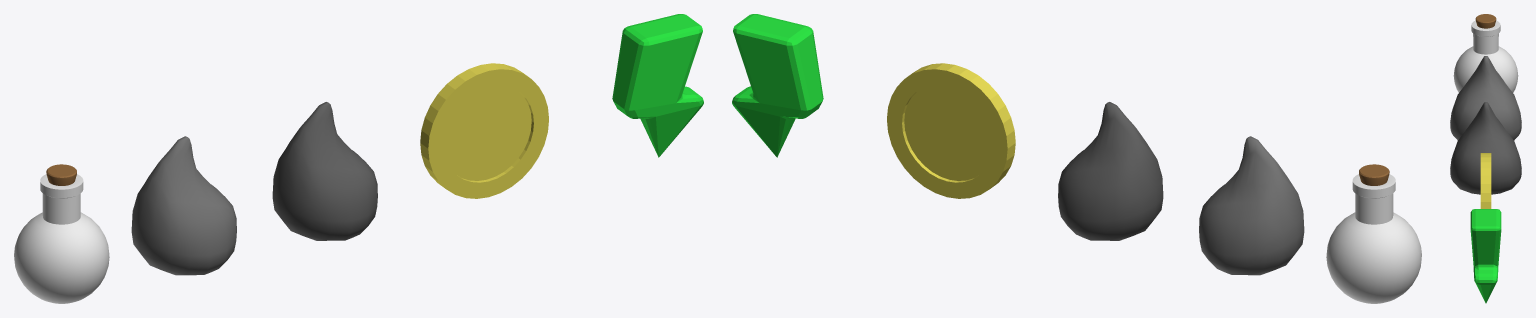
The model's file is Item.fbx.
The picture shows the model from 3 angles, left to right: view 1: azimuth 30°, elevation 25°; view 2: azimuth 150°, elevation 25°; view 3: azimuth 270°, elevation 25°; orthographic projection. The views are drawn at different scales.
Visible parts, largest first — view 1: Coin, Heart, Dis_Heart, Stamina, bottle, lid; view 2: Coin, Heart, Dis_Heart, Stamina, bottle, lid; view 3: Dis_Heart, Heart, Stamina, bottle, Coin, lid.
Boxes of the visible parts, x1,y1,x2,y2 form: Coin: (420, 63, 548, 198); Heart: (131, 136, 236, 275); Dis_Heart: (272, 102, 377, 240); Stamina: (612, 14, 703, 157); bottle: (14, 174, 109, 303); lid: (46, 164, 76, 185); Coin: (887, 63, 1015, 198); Heart: (1199, 136, 1304, 275); Dis_Heart: (1058, 102, 1163, 240); Stamina: (732, 14, 823, 157); bottle: (1326, 174, 1421, 303); lid: (1359, 164, 1389, 185); Dis_Heart: (1450, 102, 1521, 194); Heart: (1450, 56, 1521, 140); Stamina: (1470, 209, 1501, 303); bottle: (1453, 20, 1518, 92); Coin: (1480, 153, 1491, 208); lid: (1475, 14, 1496, 28).
Size of the model in its own units: 1683 by 323 by 229.
